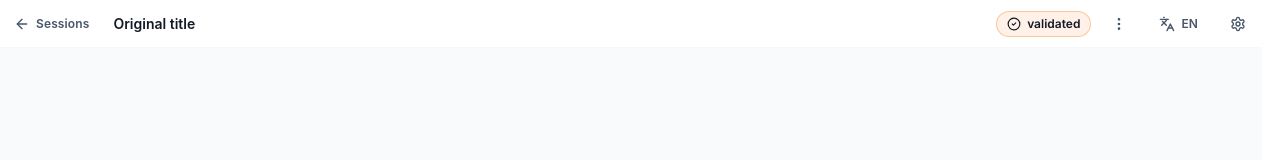
Test case: WorkbenchHeader › cancels inline rename with Escape
Step 1. Double-click the button "Original title" → (154, 24), box 113,14 -> 195,34
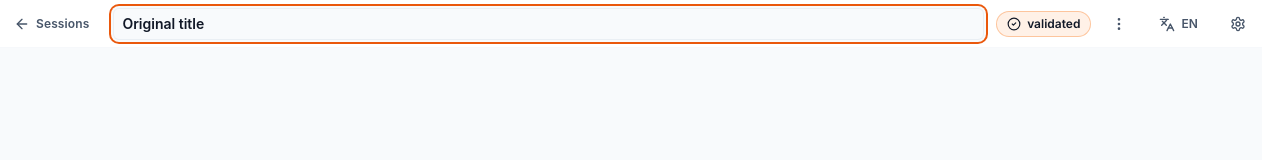
Step 2. Replace the text in the field named "会话标题" with "Discarded" → (549, 24), box 113,8 -> 984,40
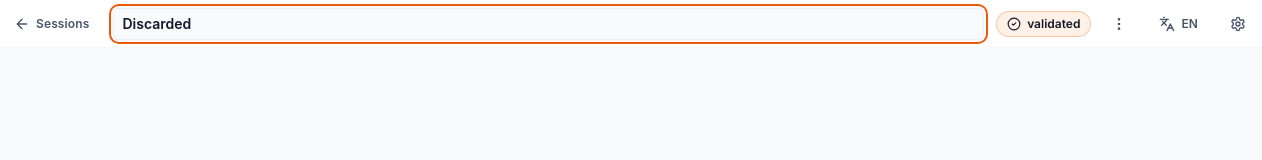
Step 3. Press Escape in the field named "会话标题", box 113,8 -> 984,40
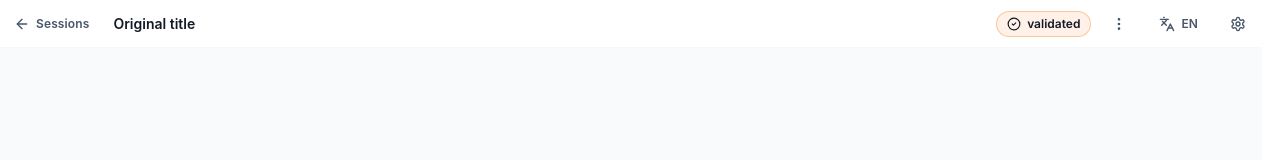
Now the button "Original title" is shown, box 113,14 -> 195,34
